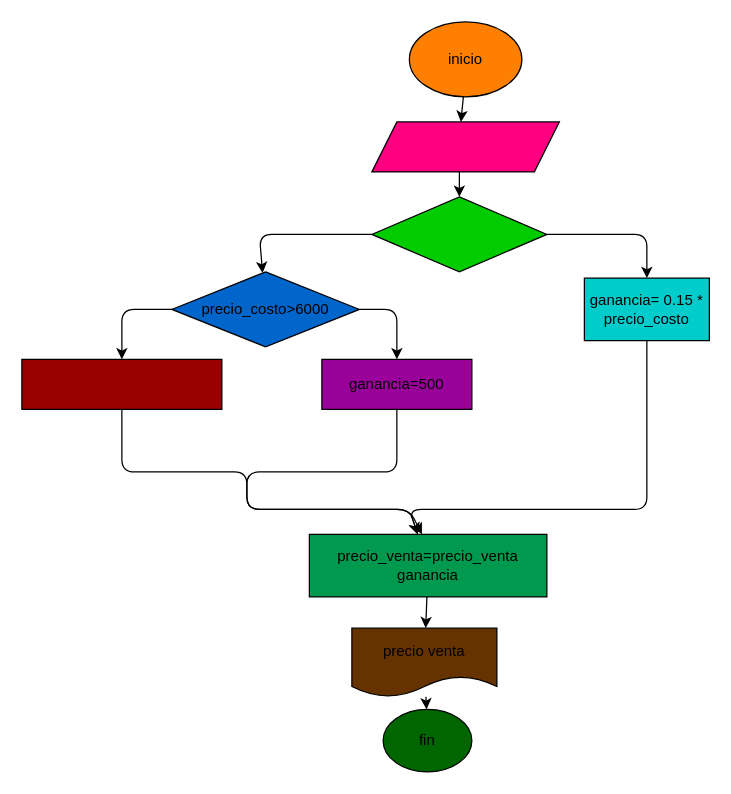
This 731x794 diagram has some shape labels left out. Here are the shapes that lost their labels. From the top down, the centre of each, then its label:
At (465,146): "precio_costo".
At (459,234): "precio_costo>3000".
At (121,383): "ganancia=0.25*precio_costo".
